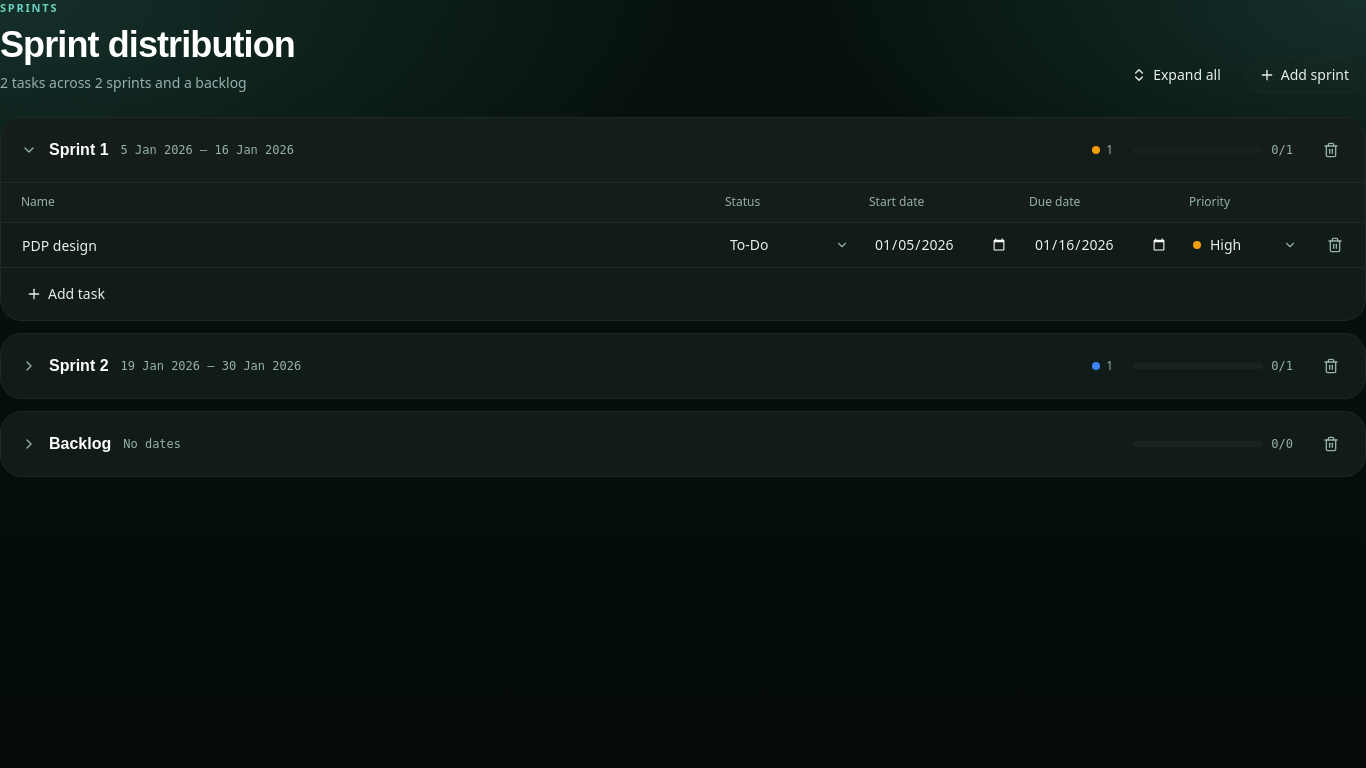
Scenario: Sprints › asks before deleting a sprint that has tasks, then removes its tasks
Later steps or results of the test are not shown.
What coordinates should you click on to do the following:
click the button named "Delete Sprint 1"
I would click on:
 (1331, 150)
Its box is left=1313, top=132, right=1349, bottom=168.
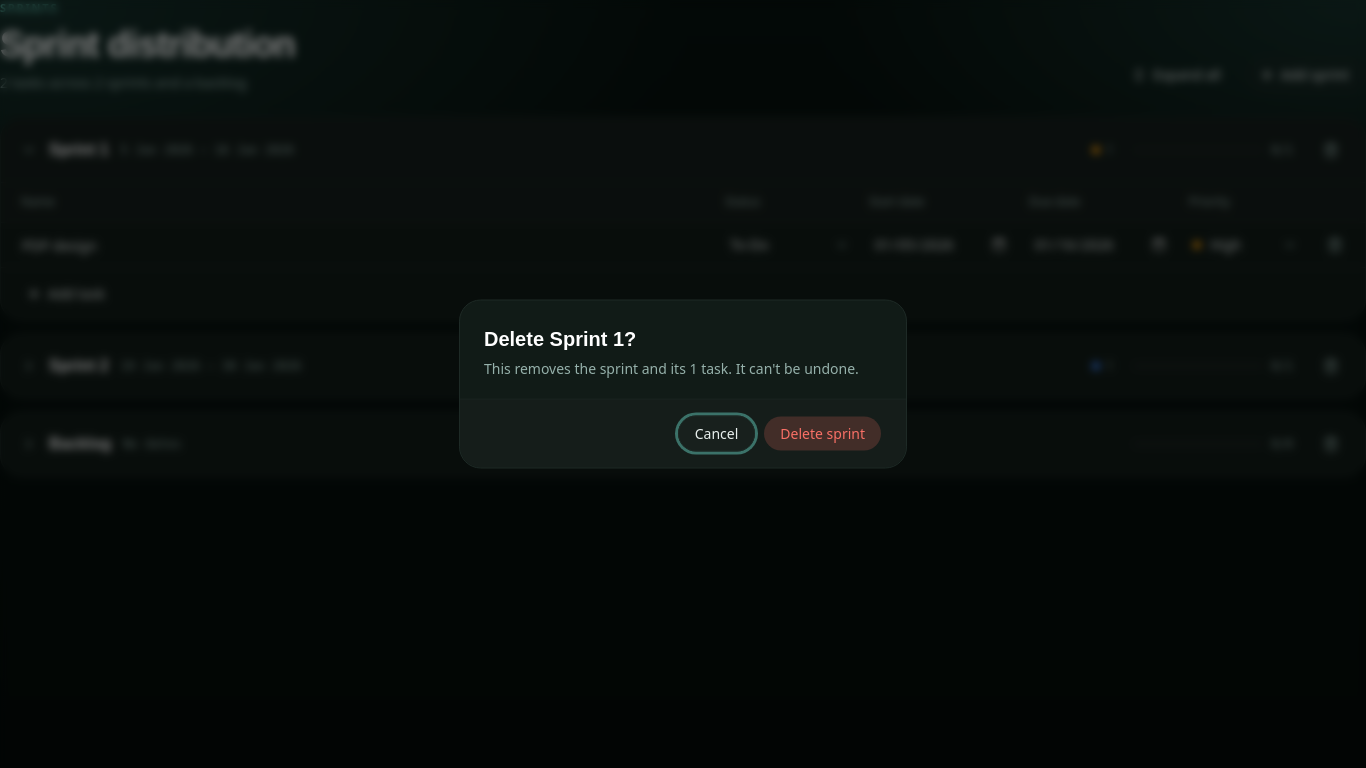
Result: the dialog "Delete Sprint 1?" shows "This removes the sprint and its 1 task." at left=459, top=300, right=907, bottom=468
